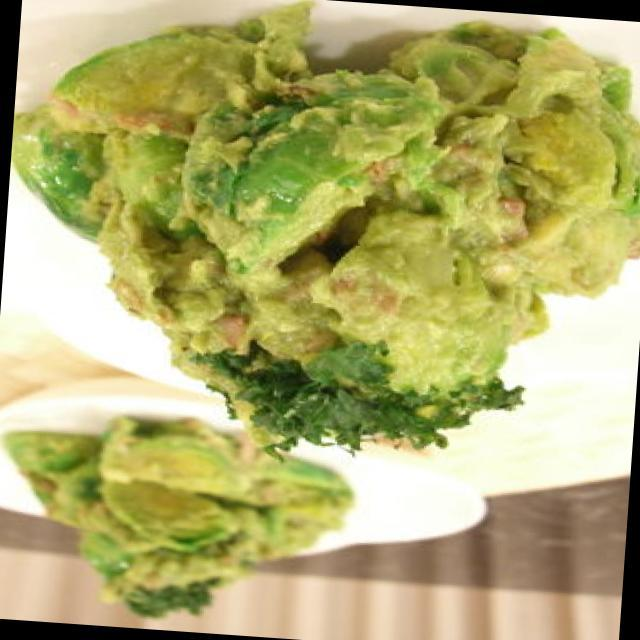Green Salad: (442, 298, 626, 460)
